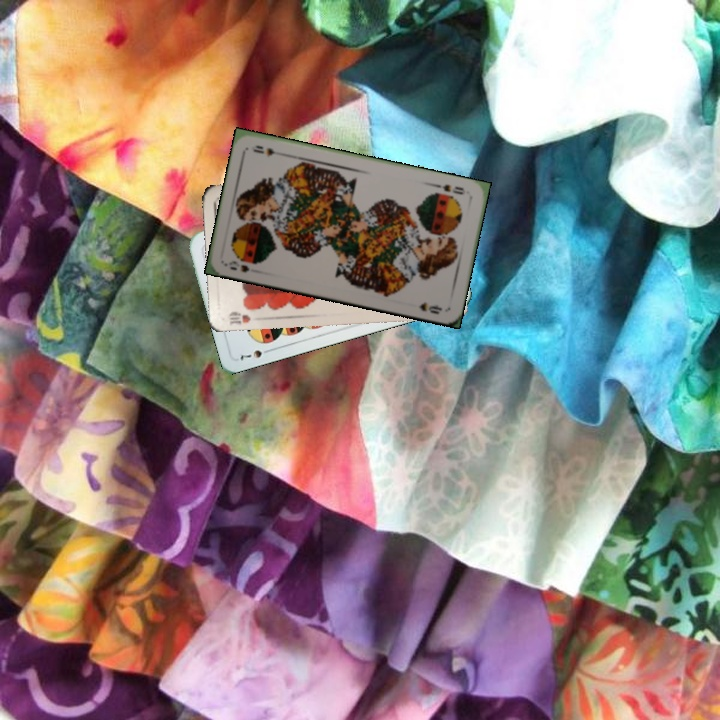H10: (225, 307, 253, 327)
S7: (236, 345, 275, 364)
SO: (432, 180, 467, 197), (221, 257, 252, 275)
